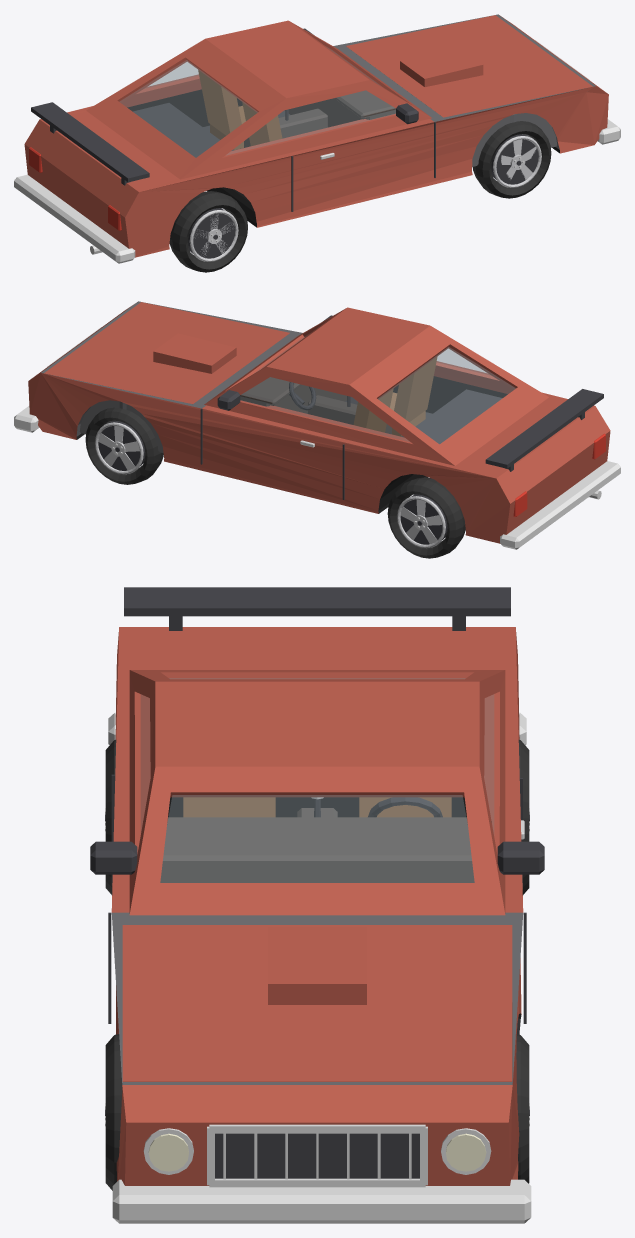
The model's file is coupe.glb.
3 renders of one model, top to bottom at view 1: azimuth 30°, elevation 25°; view 2: azimuth 150°, elevation 25°; view 3: azimuth 270°, elevation 25°, orthographic. The views are drawn at different scales.
Visible parts, largest first — view 1: Body.009, Hood.009, Glass.009, Dark.009, Tire.009, Chrome.009, Dash.009, Bay.009, Seat.009, Rim.009, Well.009, Tail.009; view 2: Body.009, Hood.009, Glass.009, Dark.009, Tire.009, Chrome.009, Rim.009, Bay.009, Dash.009, Seat.009, Well.009, Tail.009; view 3: Body.009, Hood.009, Glass.009, Dark.009, Chrome.009, Dash.009, Bay.009, Tire.009, Seat.009, Headlight.009, Well.009.
Part boxes in pixels (x1,y1,x2,y2): Body.009: (24,16,608,257); Hood.009: (346,15,593,117); Glass.009: (120,47,395,157); Dark.009: (31,28,538,258); Tire.009: (169,121,551,272); Chrome.009: (14,40,620,263); Dash.009: (244,90,395,147); Bay.009: (333,14,595,166); Seat.009: (198,70,282,150); Rim.009: (189,136,541,261); Well.009: (127,89,559,227); Tail.009: (29,147,121,230); Body.009: (28,304,610,543); Hood.009: (44,302,289,403); Glass.009: (240,335,515,443); Dark.009: (98,315,603,544); Tire.009: (85,407,465,558); Chrome.009: (14,327,620,549); Rim.009: (95,422,445,547); Bay.009: (41,301,302,453); Dash.009: (240,377,391,434); Seat.009: (353,356,437,436); Well.009: (76,376,507,513); Tail.009: (513,433,605,516); Body.009: (111,627,523,1185); Hood.009: (122,925,512,1081); Glass.009: (141,678,493,882); Dark.009: (90,587,544,1178); Chrome.009: (105,712,531,1223); Dash.009: (160,808,491,882); Bay.009: (111,912,523,1084); Tire.009: (105,739,529,1190); Seat.009: (183,797,451,817); Headlight.009: (148,1133,486,1171); Well.009: (168,797,521,1160).
Bounding box in the file's own units: 5.19 × 1.44 × 2.02.
